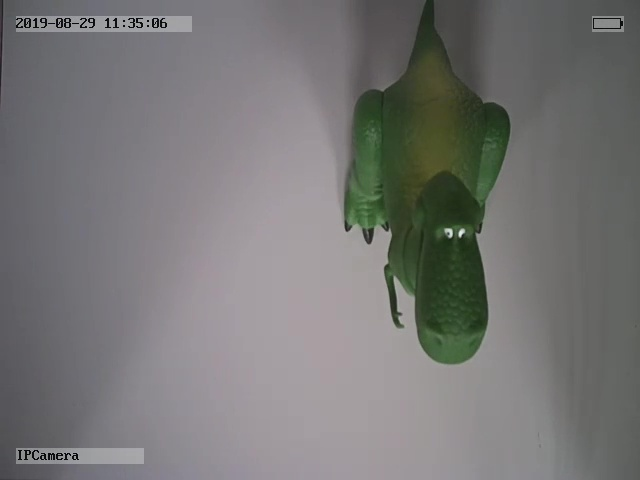rex: (340, 1, 512, 363)
